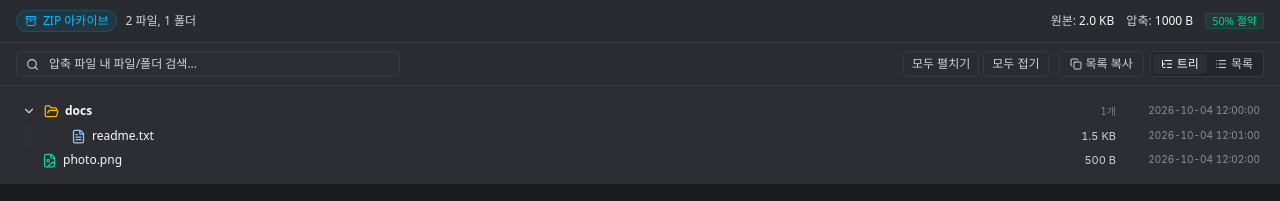
QuickPreviewZipView › supports expand all and collapse all in tree mode
The width and height of the screenshot is (1280, 201).
Click the button titled "모두 접기" at x=1016, y=64, box 983,51 -> 1049,77
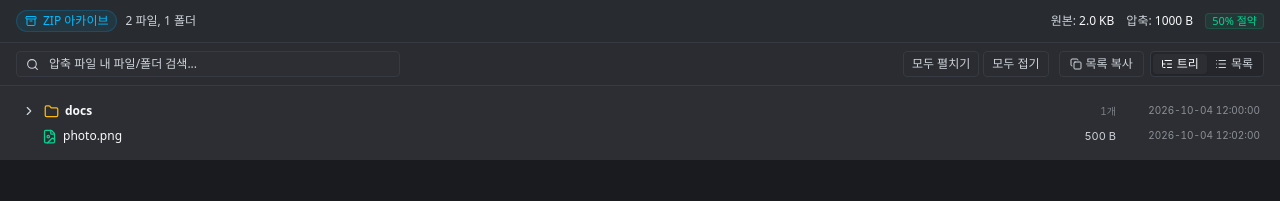
Check: the text "readme.txt" is gone
Click the button titled "모두 펼치기" at x=941, y=64, box 903,51 -> 979,77
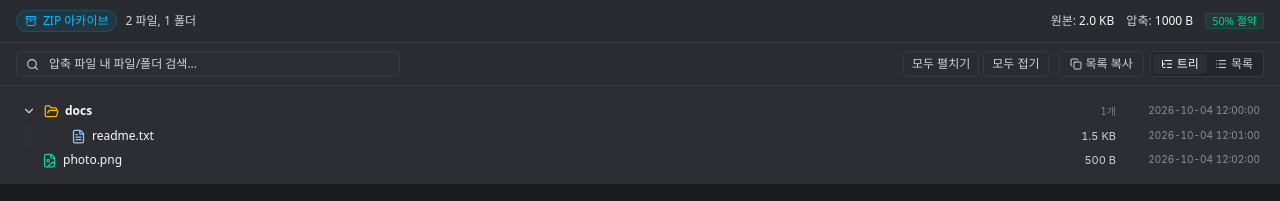
Check: the text "readme.txt" is shown, box 92,128 -> 154,144
